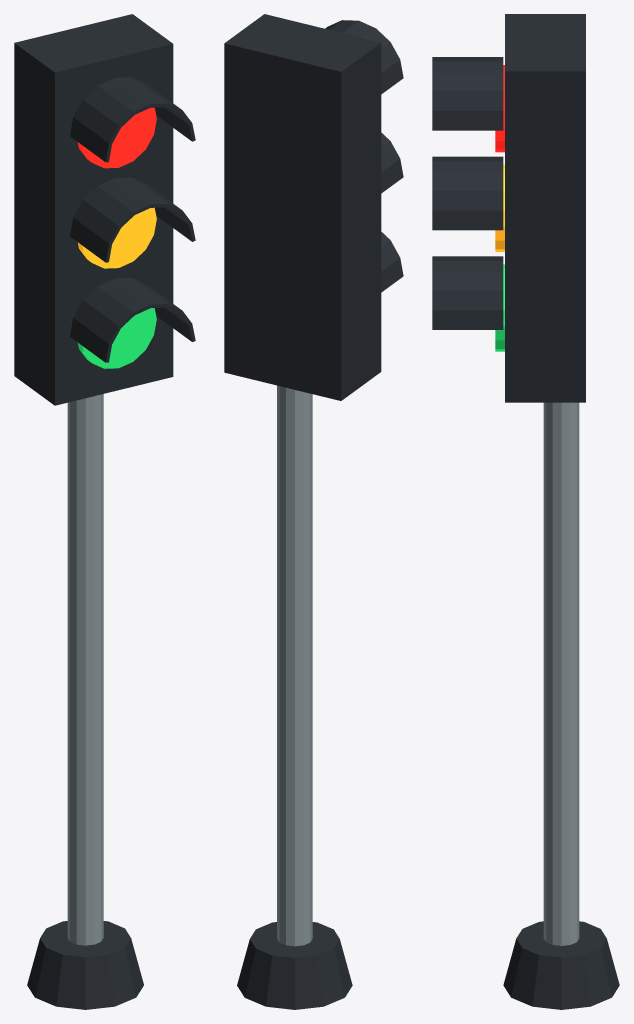
Rendered from semaforo.glb.
3 renders of one model, left to right at view 1: azimuth 30°, elevation 25°; view 2: azimuth 150°, elevation 25°; view 3: azimuth 270°, elevation 25°, orthographic.
Visible parts, largest first — view 1: Semaforo_carcasa, Semaforo_poste, Semaforo_zocalo, Visera_roja, Visera_ambar, Visera_verde, Luz_roja, Luz_ambar, Luz_verde; view 2: Semaforo_carcasa, Semaforo_poste, Semaforo_zocalo, Visera_roja, Visera_ambar, Visera_verde; view 3: Semaforo_carcasa, Semaforo_poste, Semaforo_zocalo, Visera_ambar, Visera_roja, Visera_verde.
Part boxes in pixels (box(x1,y1,x2,y2)): Semaforo_carcasa: box(14, 14, 173, 405); Semaforo_poste: box(67, 394, 103, 945); Semaforo_zocalo: box(27, 921, 143, 1009); Visera_roja: box(70, 77, 195, 162); Visera_ambar: box(70, 177, 195, 262); Visera_verde: box(70, 278, 195, 362); Luz_roja: box(77, 107, 156, 168); Luz_ambar: box(77, 207, 156, 268); Luz_verde: box(77, 308, 156, 368); Semaforo_carcasa: box(224, 14, 381, 400); Semaforo_poste: box(277, 385, 312, 946); Semaforo_zocalo: box(237, 922, 352, 1009); Visera_roja: box(325, 20, 403, 94); Visera_ambar: box(381, 132, 403, 193); Visera_verde: box(381, 232, 403, 292); Semaforo_carcasa: box(505, 14, 585, 402); Semaforo_poste: box(543, 402, 579, 945); Semaforo_zocalo: box(503, 921, 619, 1009); Visera_ambar: box(432, 156, 503, 230); Visera_roja: box(432, 57, 503, 130); Visera_verde: box(432, 256, 503, 329).
Bounding box in the file's own units: 0.42 × 3.22 × 0.58.
